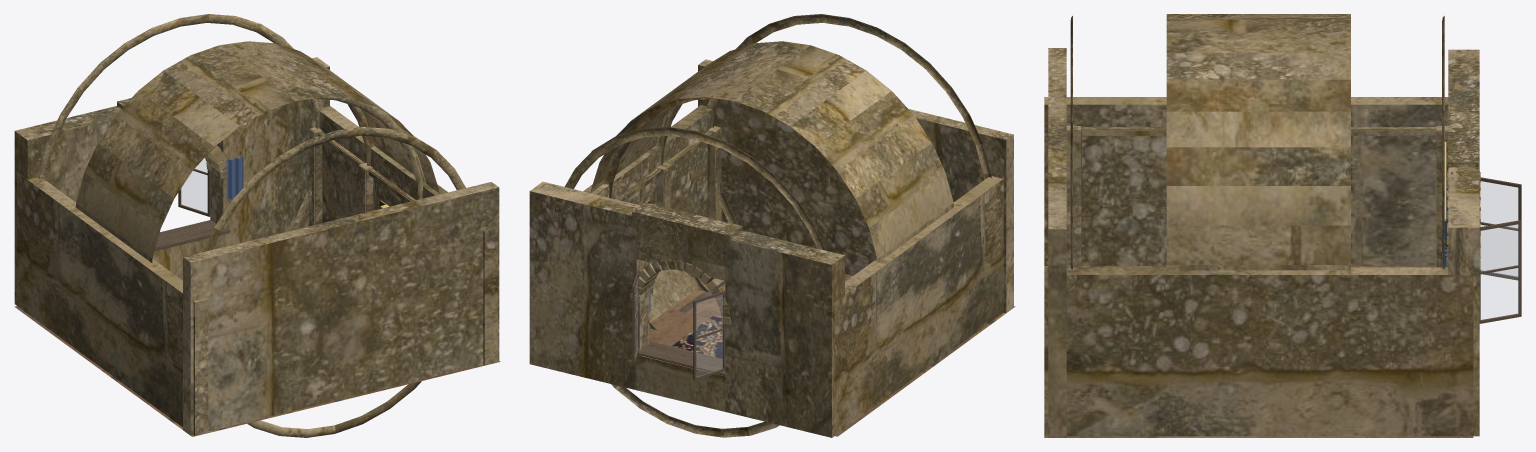
Rendered from salon_arch_baked.glb.
3 renders of one model, left to right at view 1: azimuth 30°, elevation 25°; view 2: azimuth 150°, elevation 25°; view 3: azimuth 270°, elevation 25°, orthographic. The views are drawn at different scales.
Parts seen in each view (by area): view 1: Salon_WallBack, Salon_Vault, Salon_WallLeft, Salon_FrontR, Salon_WallRight, Salon_FrontL, Salon_VaultRib_-3.55, Salon_VaultRib_3.55, Salon_Floor, Salon_PilasterR_3.55, Salon_VaultRib_-1.2, Salon_Windowsill (+5 smaller); view 2: Salon_Vault, Salon_WallLeft, Salon_WallBack, Salon_FrontL, Salon_FrontR, Salon_FrontHeader, Salon_WallRight, Salon_VaultRib_3.55, Salon_VaultRib_-3.55, Salon_FrontUnder, Salon_Floor, Casement_-1_Glass (+7 smaller); view 3: Salon_WallRight, Salon_Vault, Salon_WallLeft, Salon_WallBack, Salon_FrontR, Casement_1_Glass, Casement_-1_Glass, Salon_FrontHeader, Salon_PilasterL_-3.55, Salon_FrontL, Salon_CorniceL, Salon_PilasterL_3.55 (+3 smaller).
Part boxes in pixels (x1,y1,x2,y2): Salon_WallBack: (183,182,499,435); Salon_Vault: (75,41,439,262); Salon_WallLeft: (17,172,208,436); Salon_FrontR: (210,57,329,246); Salon_WallRight: (319,106,497,365); Salon_FrontL: (14,106,121,305); Salon_VaultRib_-3.55: (203,127,465,437); Salon_VaultRib_3.55: (38,14,322,231); Salon_Floor: (14,275,500,436); Salon_PilasterR_3.55: (309,127,322,226); Salon_VaultRib_-1.2: (315,97,425,199); Salon_Windowsill: (155,220,230,251); Salon_Vault: (591,41,953,322); Salon_WallLeft: (834,176,1003,435); Salon_WallBack: (698,59,1013,313); Salon_FrontL: (725,230,844,437); Salon_FrontR: (529,181,649,389); Salon_FrontHeader: (632,202,742,281); Salon_WallRight: (583,105,712,217); Salon_VaultRib_3.55: (564,127,825,437); Salon_VaultRib_-3.55: (707,14,991,224); Salon_FrontUnder: (635,355,726,411); Salon_Floor: (649,274,1015,436); Casement_-1_Glass: (696,295,722,376); Salon_WallRight: (1044,267,1473,436); Salon_Vault: (1166,14,1350,270); Salon_WallLeft: (1044,97,1448,265); Salon_WallBack: (1048,48,1066,437); Salon_FrontR: (1448,167,1479,436); Casement_1_Glass: (1481,225,1518,319); Casement_-1_Glass: (1481,181,1517,276); Salon_FrontHeader: (1448,104,1479,167); Salon_PilasterL_-3.55: (1066,126,1081,267); Salon_FrontL: (1448,49,1479,104); Salon_CorniceL: (1082,127,1435,135); Salon_PilasterL_3.55: (1435,126,1448,267).
Bounding box in the file's own units: 8.2 × 7.76 × 9.12.
11 materials, 8 textured.
